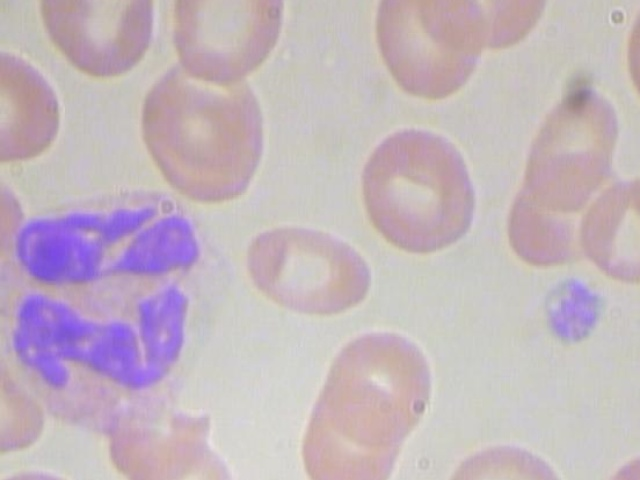Platelets: (534, 268, 609, 351)
RBC: (134, 50, 281, 207), (346, 121, 483, 259), (507, 86, 632, 221), (319, 321, 438, 456), (363, 0, 498, 108), (242, 218, 376, 320), (293, 372, 418, 480), (164, 0, 293, 84), (38, 0, 166, 84), (0, 43, 77, 171), (574, 162, 640, 287), (434, 430, 579, 480), (123, 428, 243, 480), (0, 340, 49, 462), (0, 161, 39, 280), (0, 461, 103, 480)
WBC: (0, 180, 234, 432)
